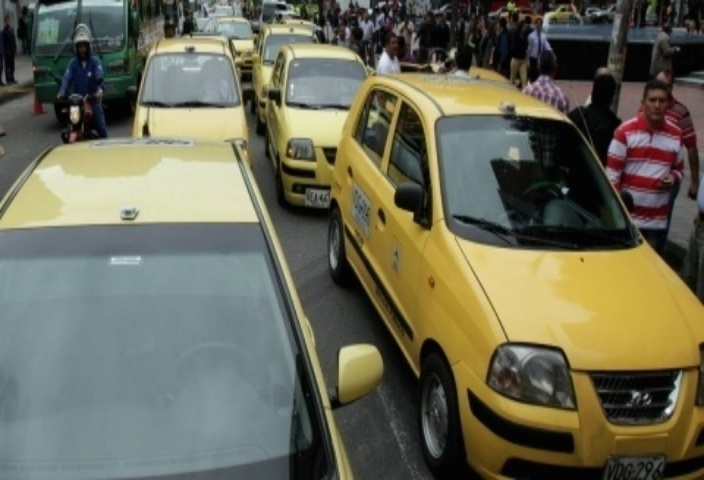bus: (30, 1, 139, 114)
motorcycle: (49, 10, 116, 153)
taxi: (332, 62, 704, 474), (9, 109, 366, 480), (258, 53, 385, 203), (128, 31, 256, 166), (257, 21, 328, 124), (217, 25, 256, 70)
